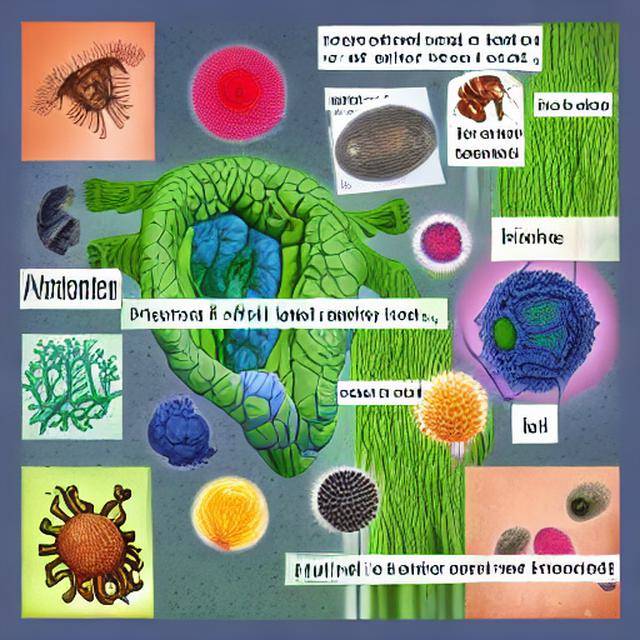Graph: (285, 551, 356, 583)
